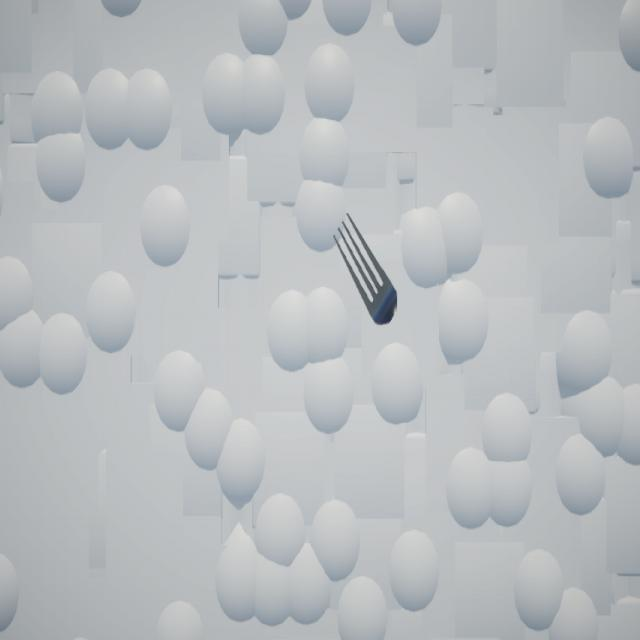top_folk: (334, 214, 399, 327)
